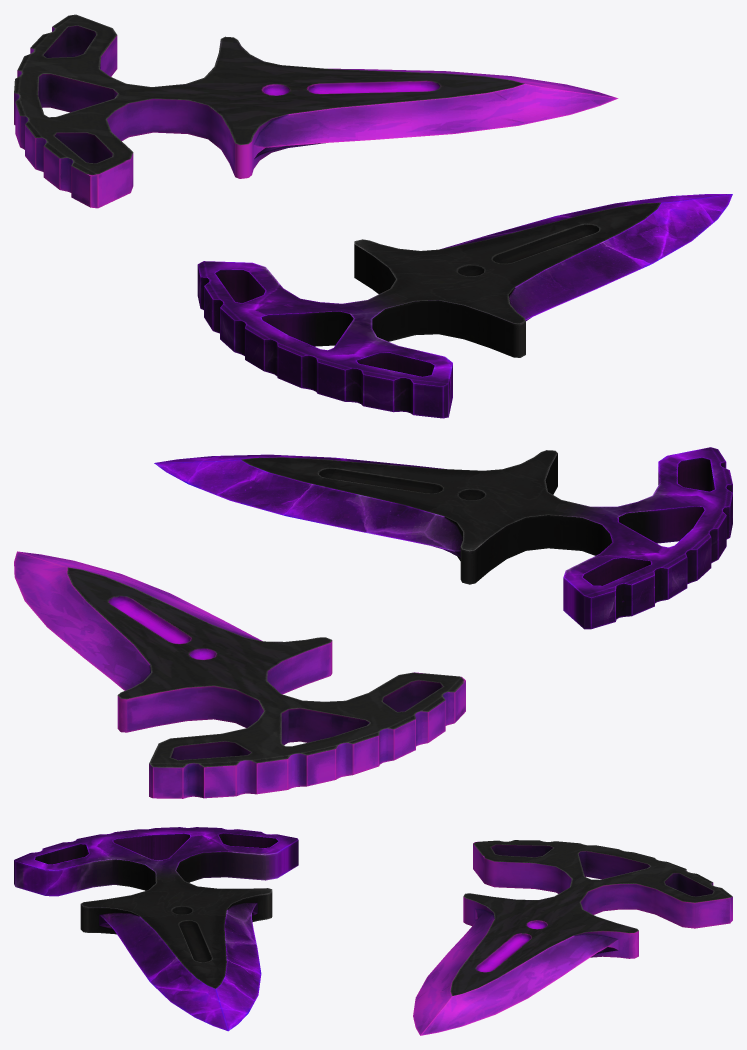
File: shadow_daggers_cs2_reference.glb
3 views of the same model, one above another, from view 1: azimuth 30°, elevation 25°; view 2: azimuth 150°, elevation 25°; view 3: azimuth 270°, elevation 25° (orthographic). The views are drawn at different scales.
Parts seen in each view (by area): view 1: knife_poke__1_, knife_poke; view 2: knife_poke, knife_poke__1_; view 3: knife_poke__1_, knife_poke.
Boxes of the visible parts, x1,y1,x2,y2 form: knife_poke__1_: (197, 194, 732, 418); knife_poke: (14, 14, 618, 208); knife_poke: (14, 551, 465, 798); knife_poke__1_: (154, 447, 732, 629); knife_poke__1_: (14, 827, 298, 1031); knife_poke: (413, 840, 732, 1035).
Bounding box in the file's own units: 1.36 × 0.0829 × 2.1.
Materials: 2 (2 with a texture image).
